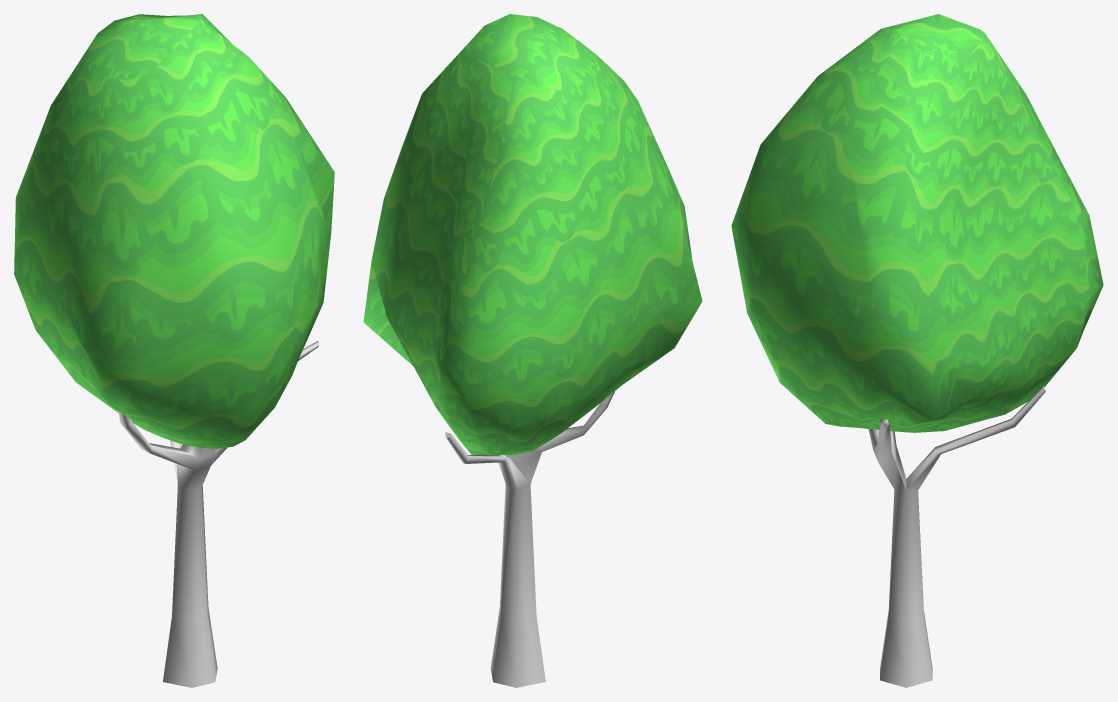
File: P_Tree_1.fbx
3 views of the same model, side by side, from view 1: azimuth 30°, elevation 25°; view 2: azimuth 150°, elevation 25°; view 3: azimuth 270°, elevation 25° (orthographic). The views are drawn at different scales.
Visible parts, largest first — view 1: Sphere.002, Cube.001; view 2: Sphere.002, Cube.001; view 3: Sphere.002, Cube.001.
Boxes of the visible parts, bbox=[...] form: Sphere.002: bbox=[14, 14, 334, 448]; Cube.001: bbox=[118, 341, 318, 687]; Sphere.002: bbox=[363, 14, 702, 455]; Cube.001: bbox=[445, 391, 614, 687]; Sphere.002: bbox=[731, 14, 1103, 432]; Cube.001: bbox=[868, 386, 1045, 687].
Size of the model in its own units: 3.93 by 8.91 by 4.66.
